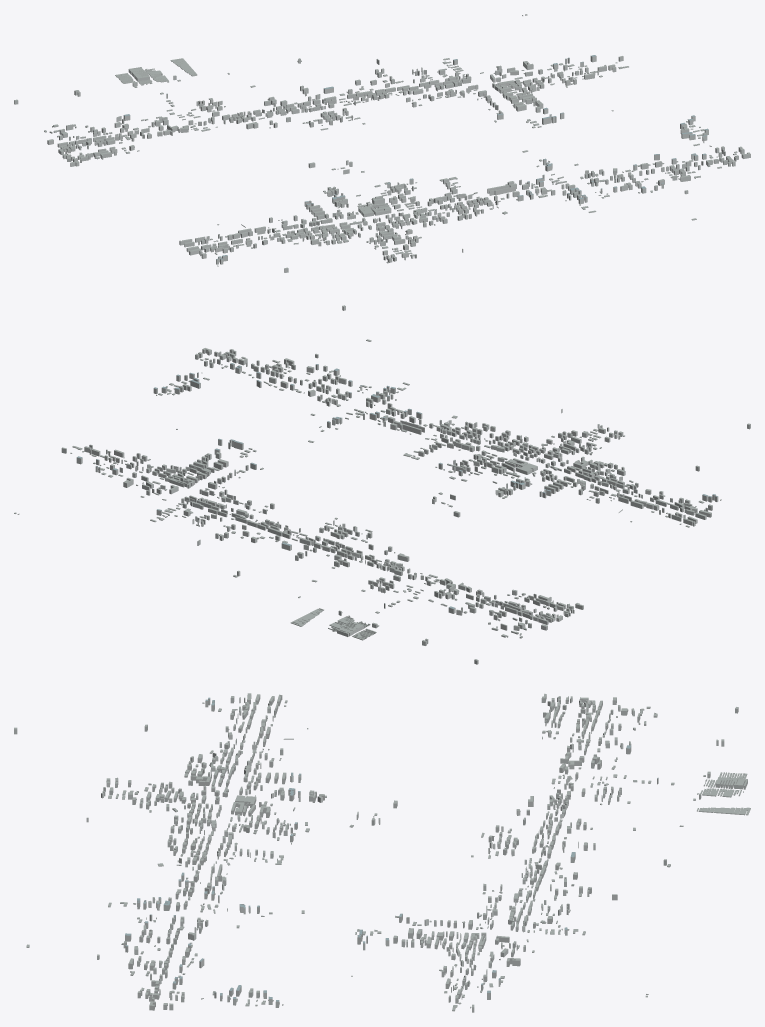
File: far.glb
The picture shows the model from 3 angles, top to bottom: view 1: azimuth 30°, elevation 25°; view 2: azimuth 150°, elevation 25°; view 3: azimuth 270°, elevation 25°; orthographic projection. The views are drawn at different scales.
Size of the model in its own units: 2108 by 22.8 by 2085.
